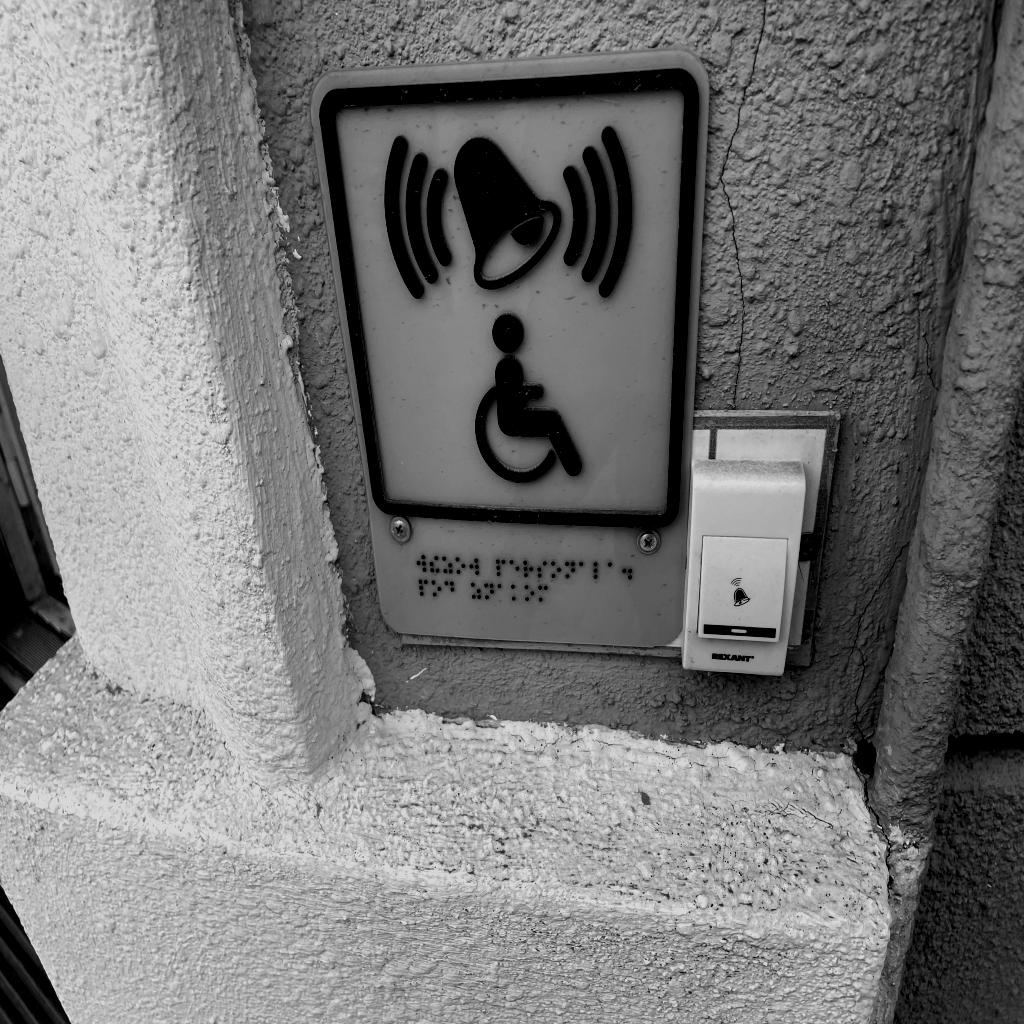_n: (565, 561, 575, 579), (484, 583, 494, 601)
a: (579, 561, 589, 580), (607, 561, 617, 580), (497, 583, 506, 601)
d: (445, 581, 455, 601)
e: (509, 559, 519, 579)
ii: (430, 556, 440, 574)
k: (511, 584, 521, 602)
l: (593, 561, 603, 580)
m: (538, 585, 548, 602)
o: (550, 561, 561, 579), (455, 557, 465, 575), (524, 584, 534, 602), (432, 580, 442, 597)
p: (418, 579, 428, 597), (496, 559, 506, 576)
r: (523, 560, 533, 578)
s: (537, 560, 547, 578)
tochka: (622, 561, 633, 580)
v: (417, 554, 427, 572), (469, 558, 479, 576)
z: (442, 556, 453, 574), (471, 582, 481, 600)
